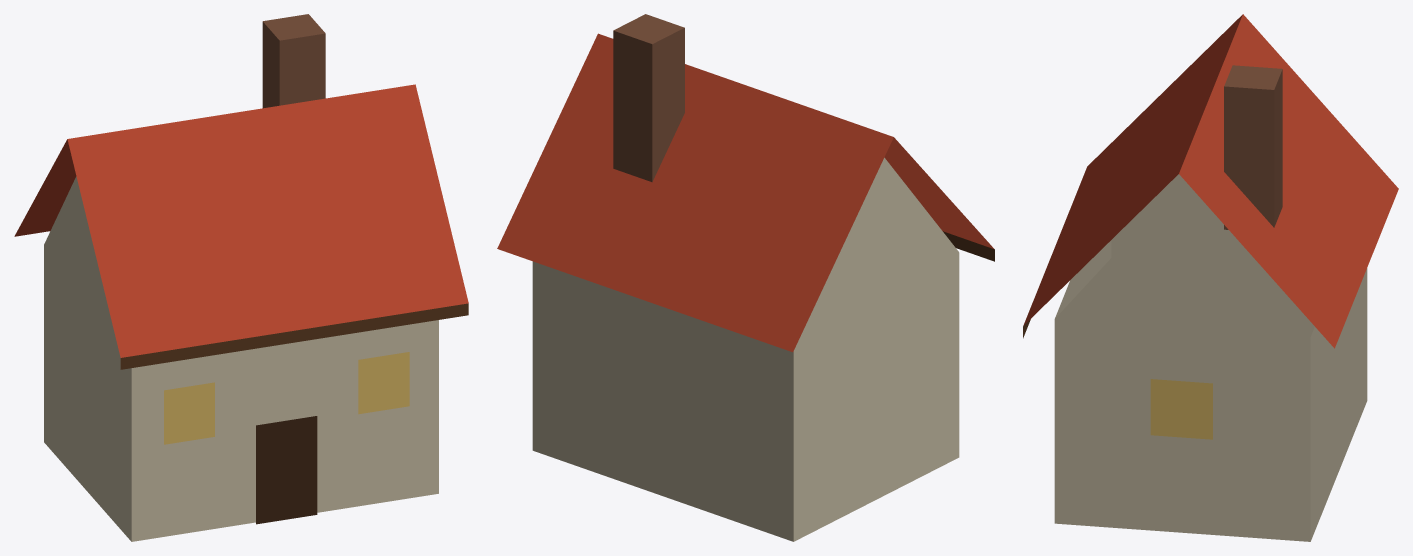
The model's file is house.glb.
The picture shows the model from 3 angles, left to right: view 1: azimuth 30°, elevation 25°; view 2: azimuth 150°, elevation 25°; view 3: azimuth 270°, elevation 25°; orthographic projection. The views are drawn at different scales.
Visible parts, largest first — view 1: prop_house; view 2: prop_house; view 3: prop_house.
Boxes of the visible parts, x1,y1,x2,y2 form: prop_house: (14, 14, 468, 541); prop_house: (497, 14, 994, 541); prop_house: (1023, 14, 1398, 541).
Size of the model in its own units: 0.382 by 0.412 by 0.3329.
